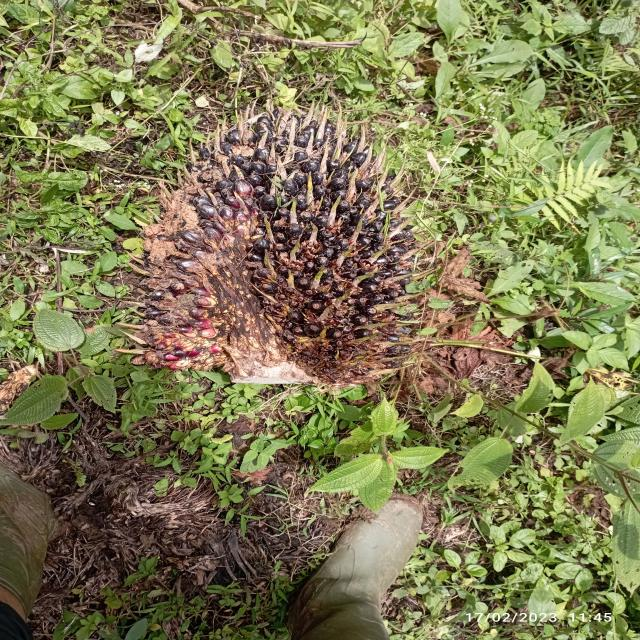fraksi 00: (112, 64, 466, 444)
